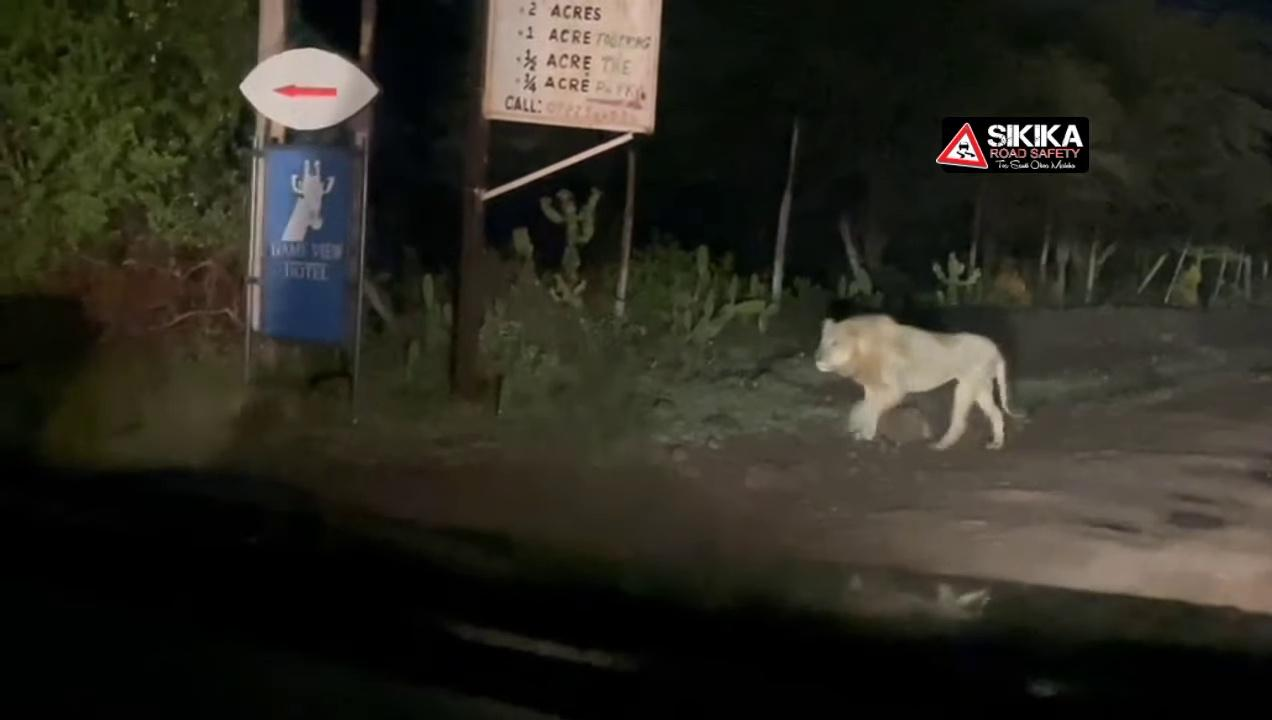lions: (804, 297, 1036, 457)
